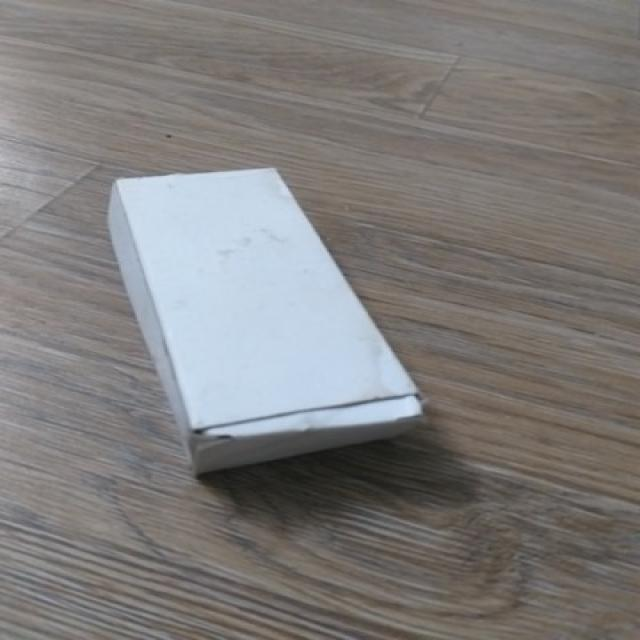PaperCardboard: (104, 156, 444, 476)
